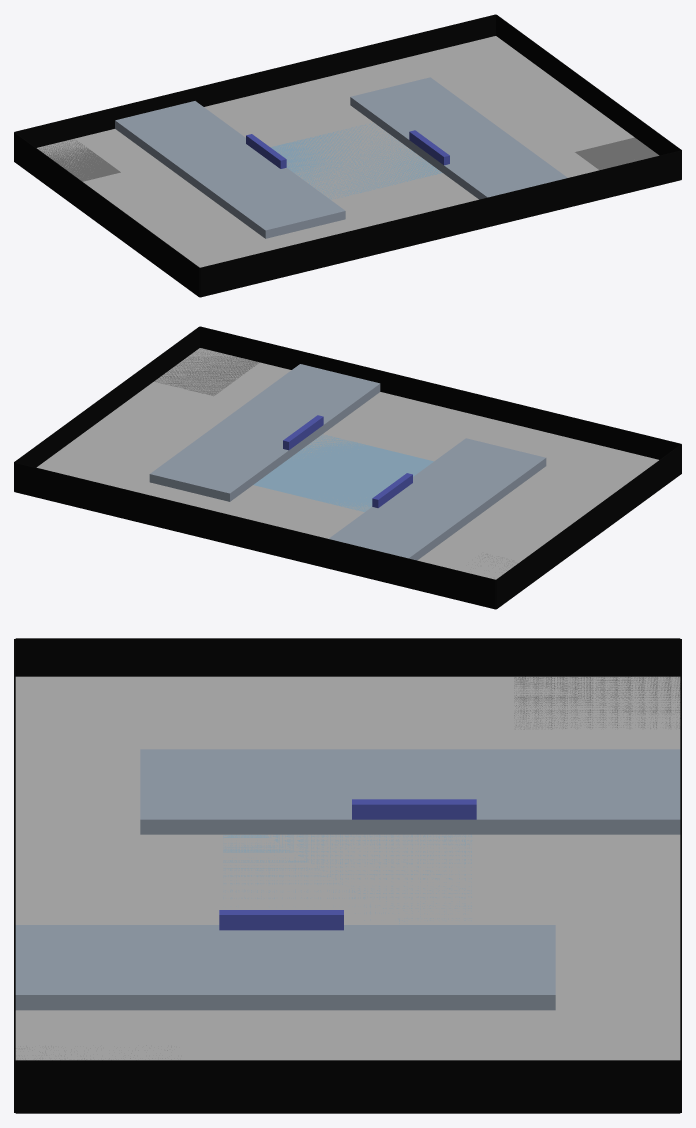
The model's file is rmul_2026.dae.
3 views of the same model, one above another, from view 1: azimuth 30°, elevation 25°; view 2: azimuth 150°, elevation 25°; view 3: azimuth 270°, elevation 25° (orthographic). The views are drawn at different scales.
Visible parts, largest first — view 1: 地面, 立方体.003, 红1台, 蓝1台, 立方体.002, 控制区, 立方体.001, 立方体, 红补给, 蓝补给, 红2台, 蓝2台; view 2: 地面, 立方体.002, 蓝1台, 红1台, 立方体.003, 控制区, 立方体.001, 立方体, 蓝补给, 蓝2台, 红2台; view 3: 地面, 蓝1台, 红1台, 立方体, 立方体.001, 红补给, 控制区, 红2台, 蓝2台, 立方体.002, 立方体.003.
Boxes of the visible parts, bbox=[...] form: 地面: bbox=[37, 36, 634, 267]; 立方体.003: bbox=[200, 150, 681, 297]; 红1台: bbox=[115, 101, 345, 238]; 蓝1台: bbox=[350, 77, 567, 199]; 立方体.002: bbox=[14, 14, 495, 147]; 控制区: bbox=[271, 123, 442, 199]; 立方体.001: bbox=[14, 132, 199, 297]; 立方体: bbox=[496, 14, 681, 179]; 红补给: bbox=[37, 139, 120, 181]; 蓝补给: bbox=[575, 137, 659, 170]; 红2台: bbox=[246, 134, 286, 168]; 蓝2台: bbox=[409, 130, 449, 165]; 地面: bbox=[36, 348, 658, 579]; 立方体.002: bbox=[14, 462, 495, 609]; 蓝1台: bbox=[149, 364, 380, 501]; 红1台: bbox=[329, 438, 546, 560]; 立方体.003: bbox=[200, 326, 681, 459]; 控制区: bbox=[253, 434, 433, 511]; 立方体.001: bbox=[496, 444, 681, 609]; 立方体: bbox=[14, 326, 199, 491]; 蓝补给: bbox=[154, 348, 259, 396]; 蓝2台: bbox=[283, 415, 323, 450]; 红2台: bbox=[372, 473, 412, 507]; 地面: bbox=[15, 676, 680, 1060]; 蓝1台: bbox=[15, 925, 555, 1010]; 红1台: bbox=[140, 749, 680, 834]; 立方体: bbox=[15, 1060, 680, 1113]; 立方体.001: bbox=[15, 638, 680, 676]; 红补给: bbox=[514, 676, 680, 729]; 控制区: bbox=[223, 834, 472, 923]; 红2台: bbox=[352, 799, 476, 819]; 蓝2台: bbox=[219, 910, 343, 930]; 立方体.002: bbox=[680, 639, 681, 1112]; 立方体.003: bbox=[14, 639, 15, 1112].
Size of the model in its own units: 12.04 by 8.04 by 0.7.
